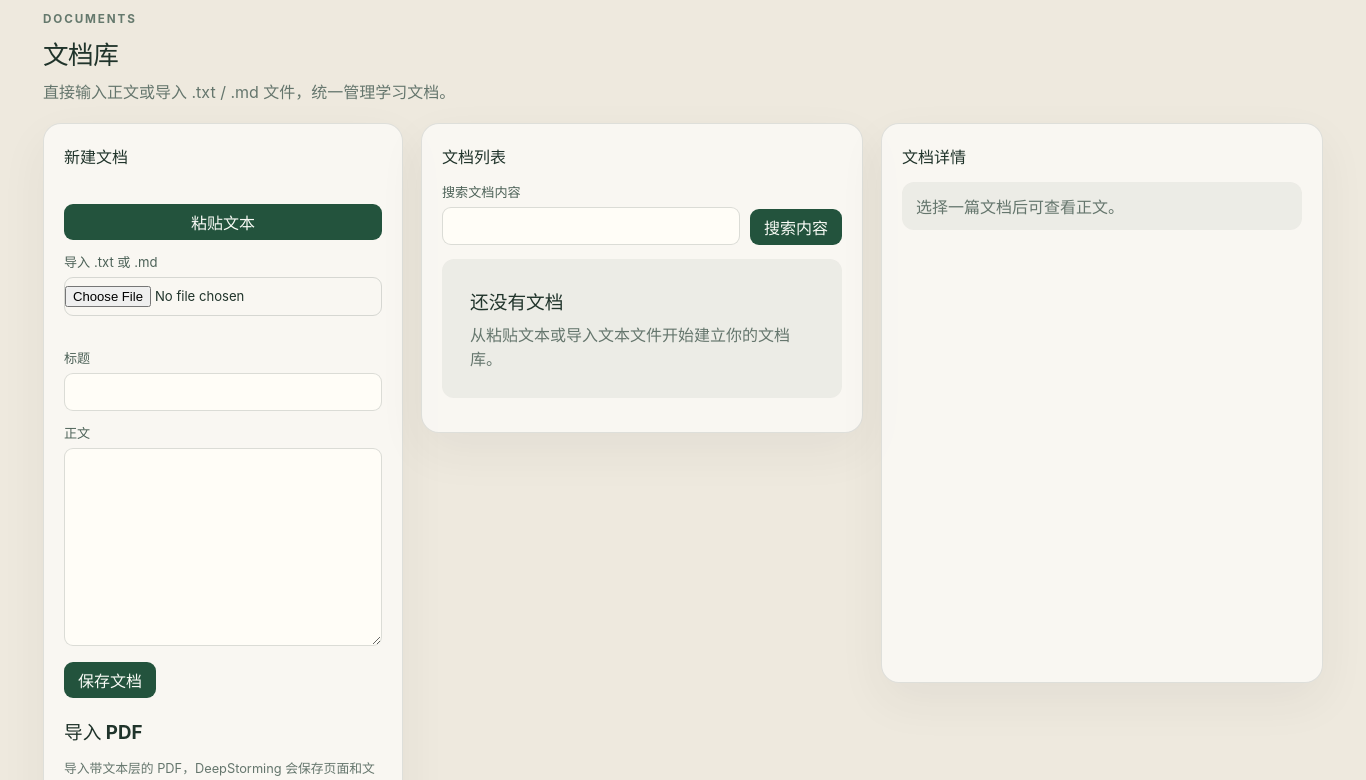
DocumentLibrary › starts a lesson from the selected document detail
The image size is (1366, 780).
Click the button "粘贴文本" at coordinates (223, 222), box x1=64 y1=204 x2=382 y2=240
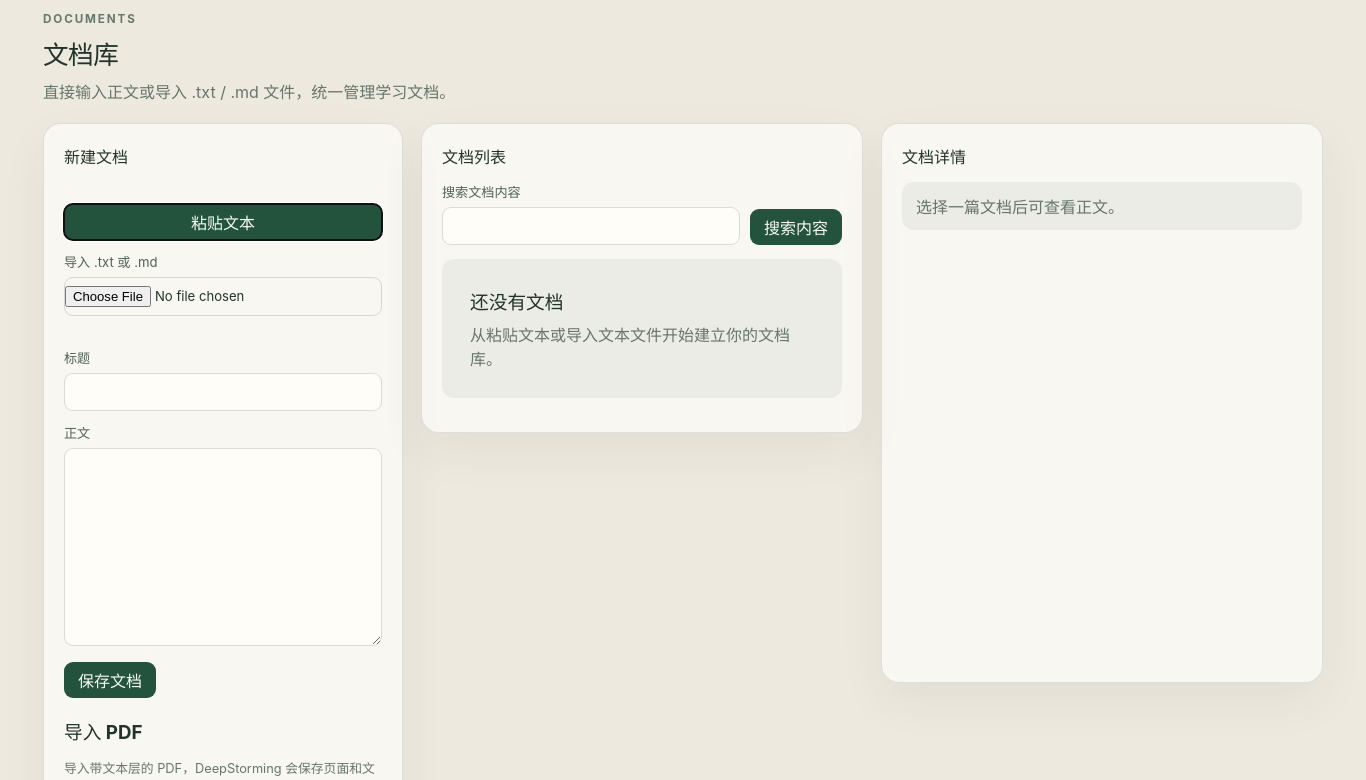
Type "Notes" into the field labelled "标题" at coordinates (223, 392), box x1=64 y1=373 x2=382 y2=411
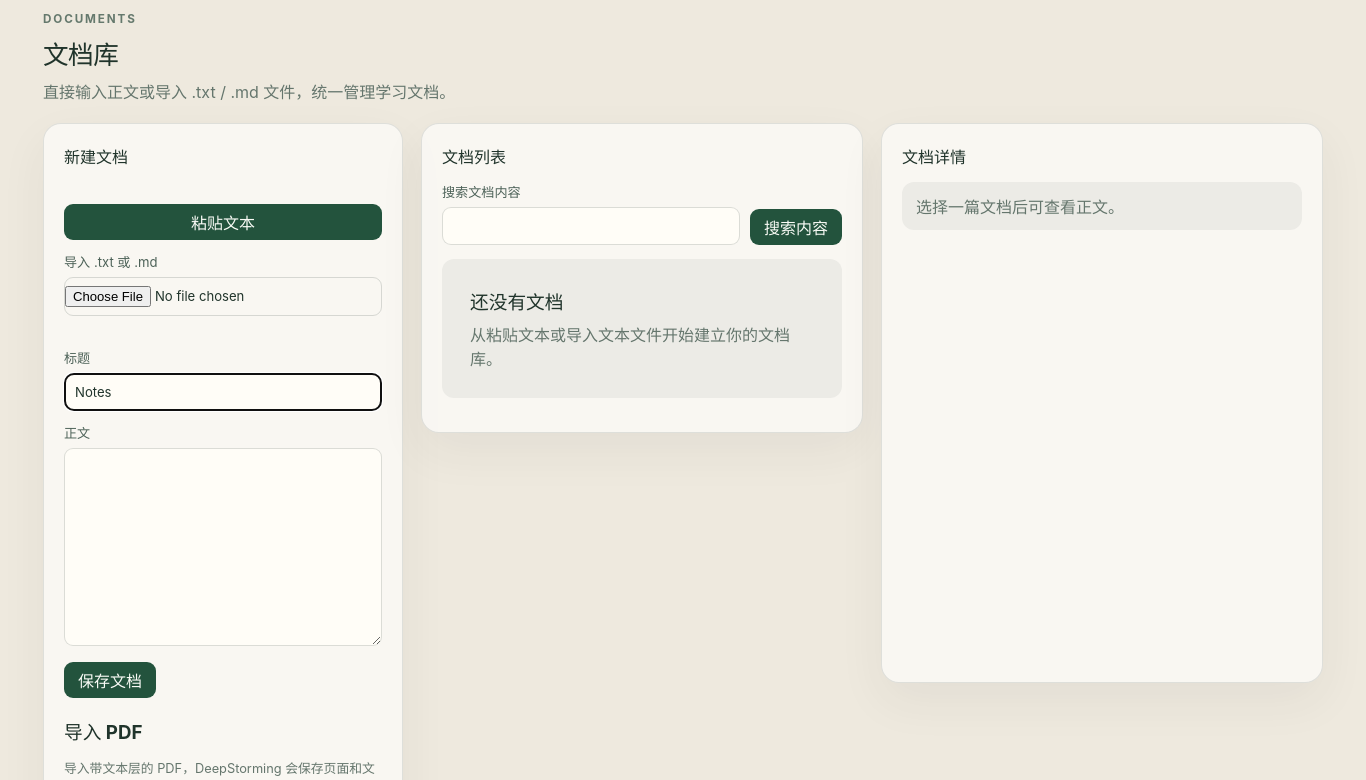
Type "body" into the text box labelled "正文" at coordinates (223, 547), box x1=64 y1=448 x2=382 y2=646
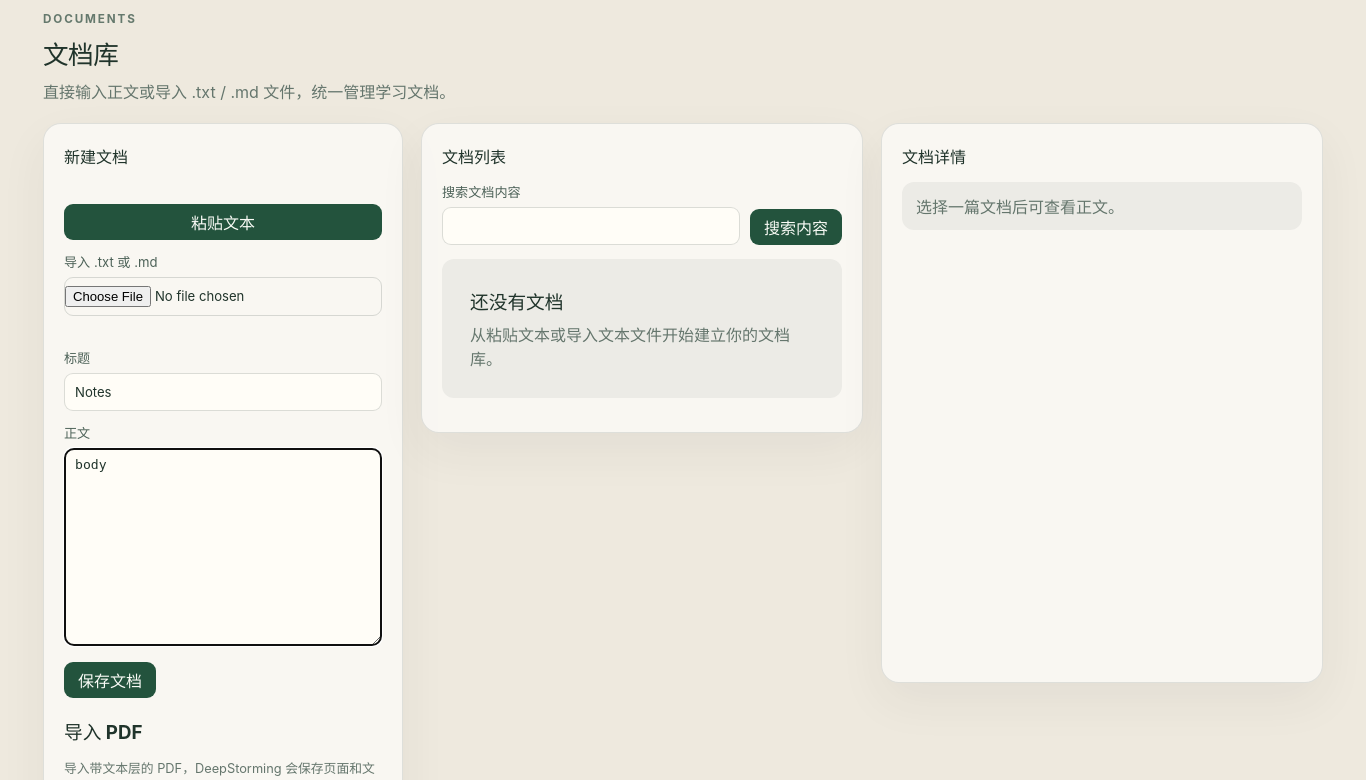
Click the button "保存文档" at coordinates (110, 680), box x1=64 y1=662 x2=156 y2=698
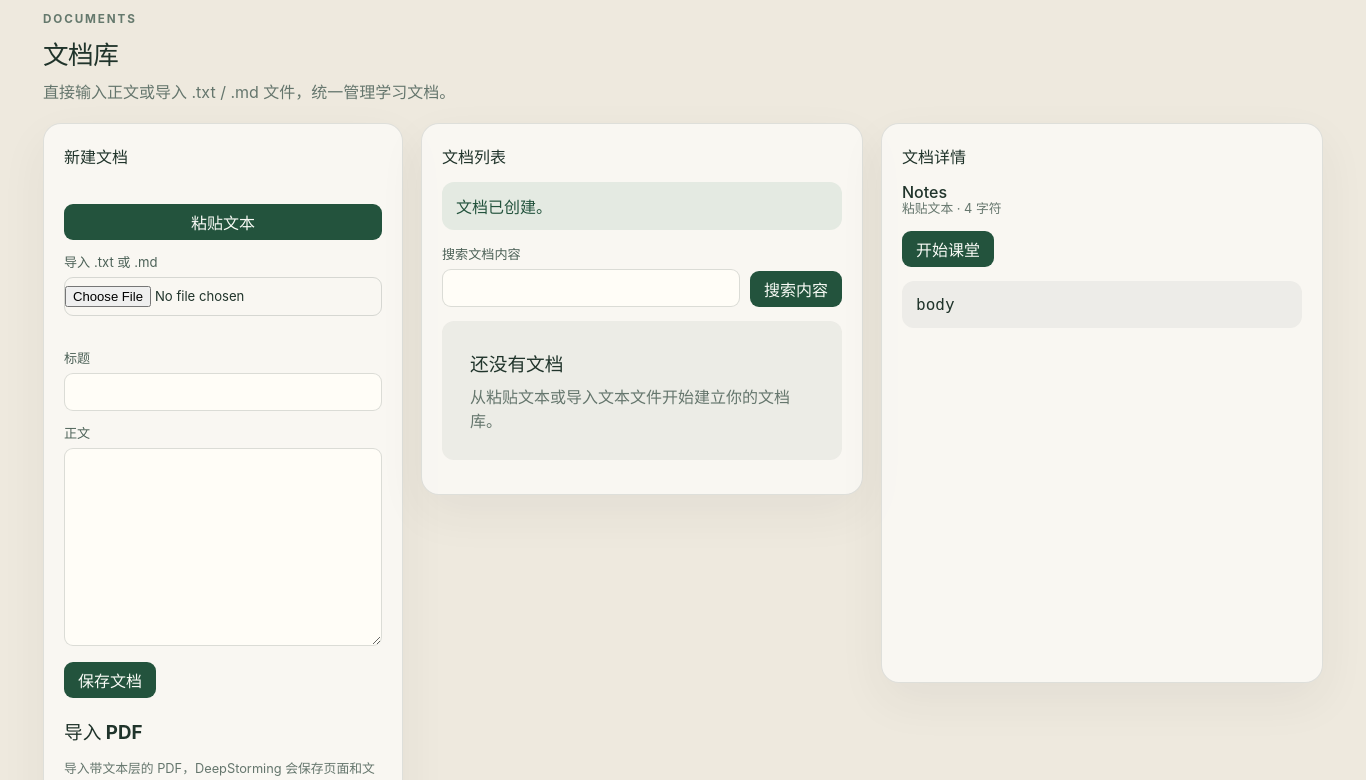
Click the button "开始课堂" at coordinates (948, 249), box x1=902 y1=231 x2=994 y2=267
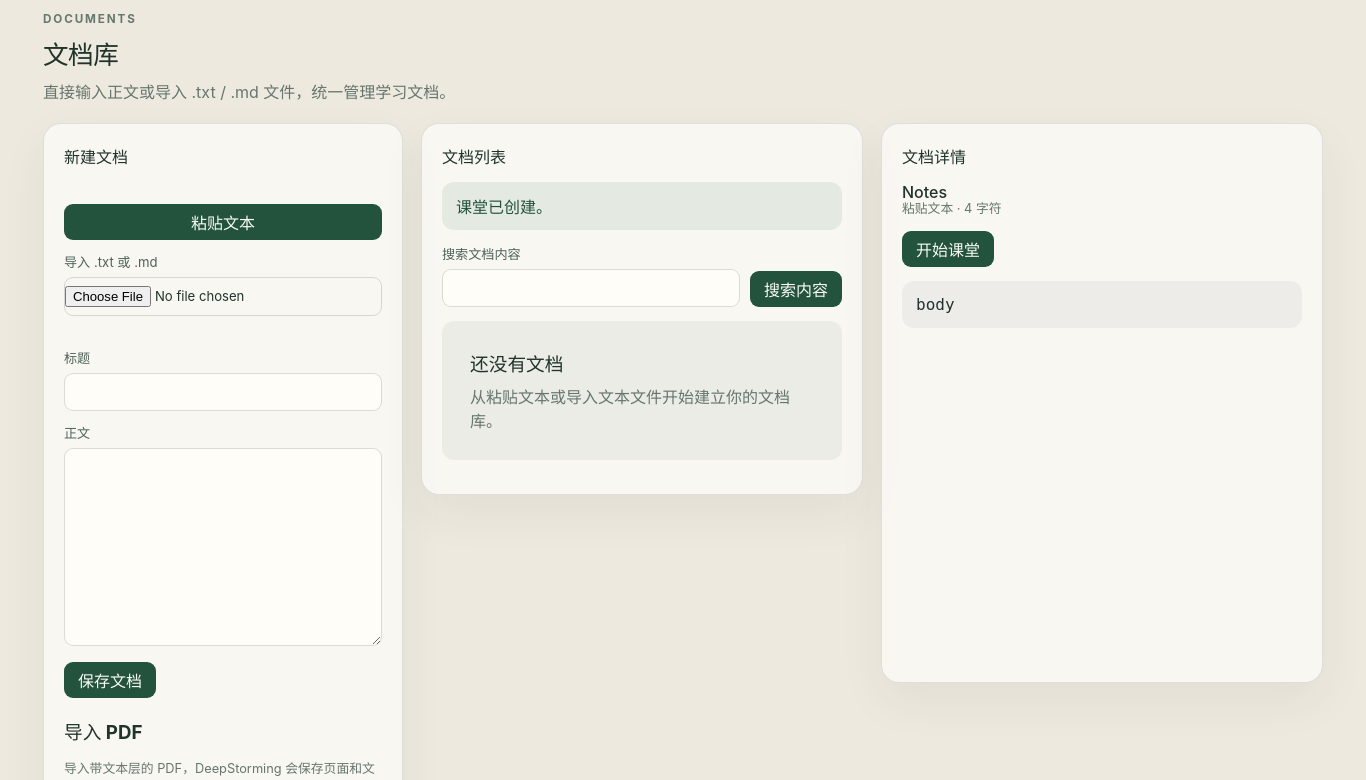
Result: the text "课堂已创建。" is shown at x1=442 y1=182 x2=842 y2=230
